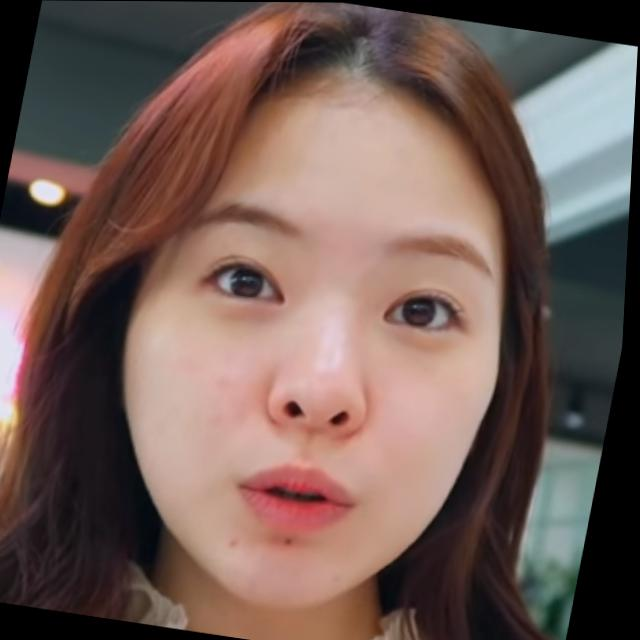face: (83, 69, 548, 634)
